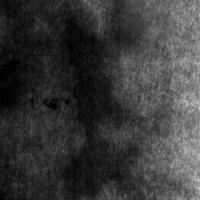patches: (62, 13, 109, 131), (112, 0, 174, 47), (1, 52, 34, 118), (112, 1, 154, 48)
